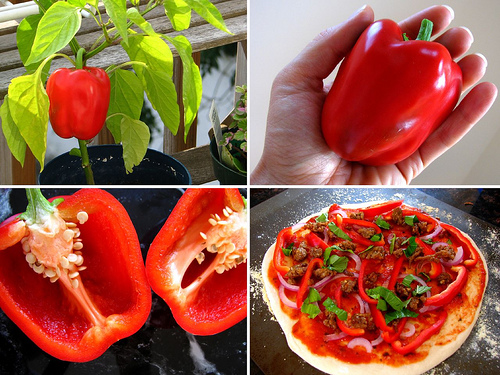capsicum: (2, 189, 153, 363), (319, 18, 462, 166), (144, 187, 248, 335), (45, 49, 112, 142)
